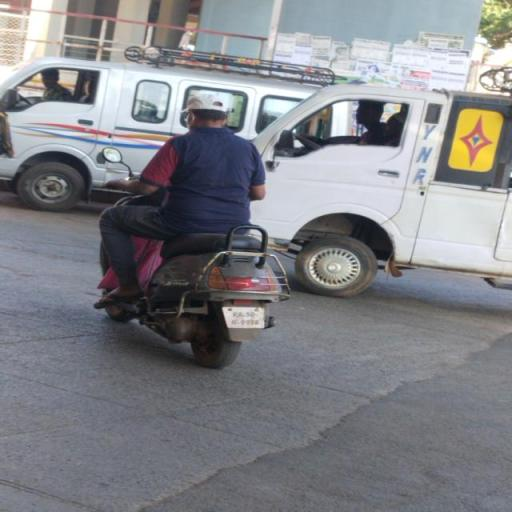bike: (90, 80, 292, 374)
numberplate: (222, 306, 266, 328)
withouthelmet: (187, 89, 232, 125)
